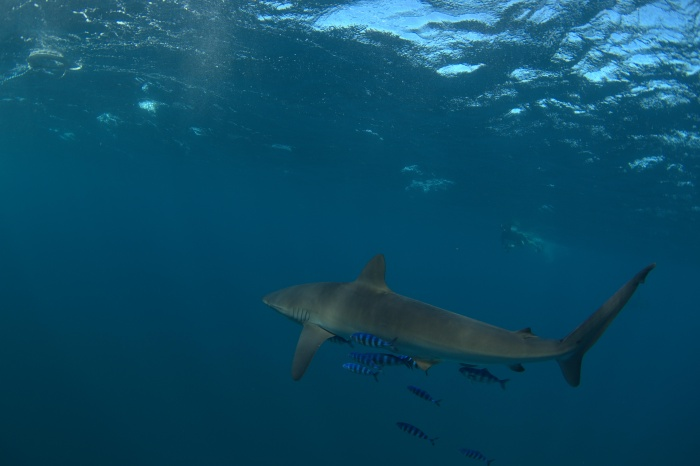Sedoso: (249, 242, 661, 407)
